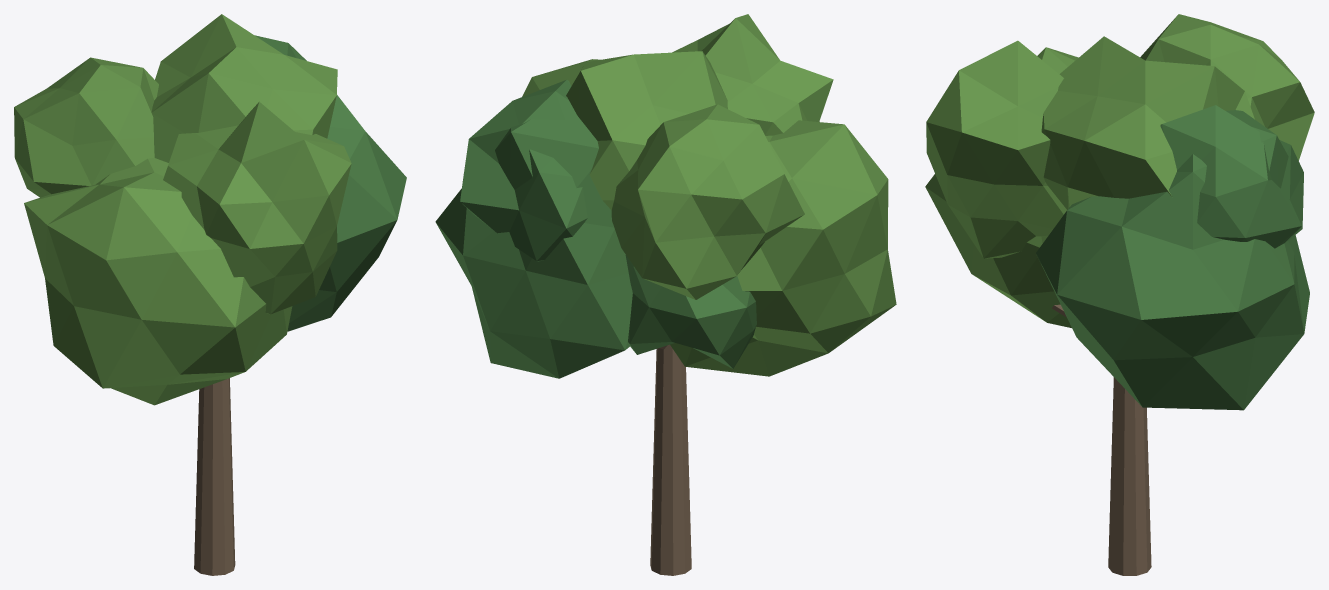
Rendered from Tree_Oak_3.fbx.
The picture shows the model from 3 angles, left to right: view 1: azimuth 30°, elevation 25°; view 2: azimuth 150°, elevation 25°; view 3: azimuth 270°, elevation 25°; orthographic projection. The views are drawn at different scales.
Visible parts, largest first — view 1: Tree_Oak_3; view 2: Tree_Oak_3; view 3: Tree_Oak_3.
Part boxes in pixels (<box>): Tree_Oak_3: <box>14,14,406,575</box>; Tree_Oak_3: <box>435,14,896,575</box>; Tree_Oak_3: <box>925,14,1314,575</box>.
Size of the model in its own units: 7.7 by 6.58 by 9.79.
